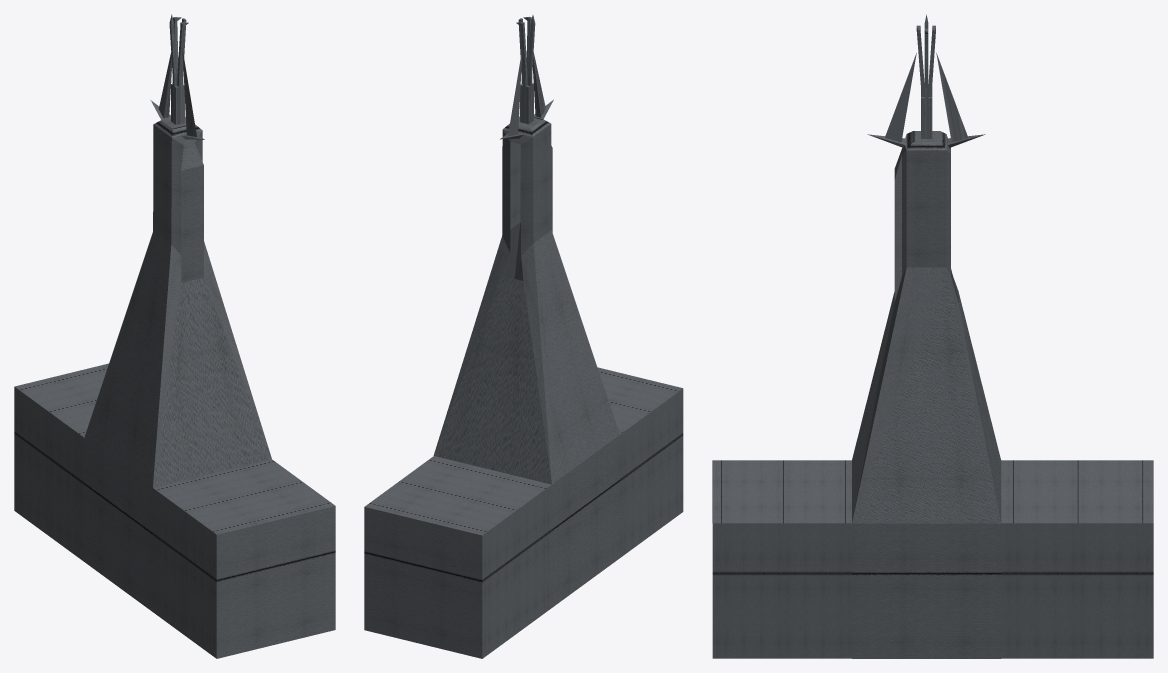
The model's file is center.obj.
The picture shows the model from 3 angles, left to right: view 1: azimuth 30°, elevation 25°; view 2: azimuth 150°, elevation 25°; view 3: azimuth 270°, elevation 25°; orthographic projection. The views are drawn at different scales.
Parts seen in each view (by area): view 1: Cube; view 2: Cube; view 3: Cube.
Boxes of the visible parts, <box> form: Cube: <box>14,14,335,658</box>; Cube: <box>364,15,683,658</box>; Cube: <box>712,14,1153,658</box>.
Bounding box in the file's own units: 9.66 × 43.38 × 28.44.
1 material, 1 textured.
